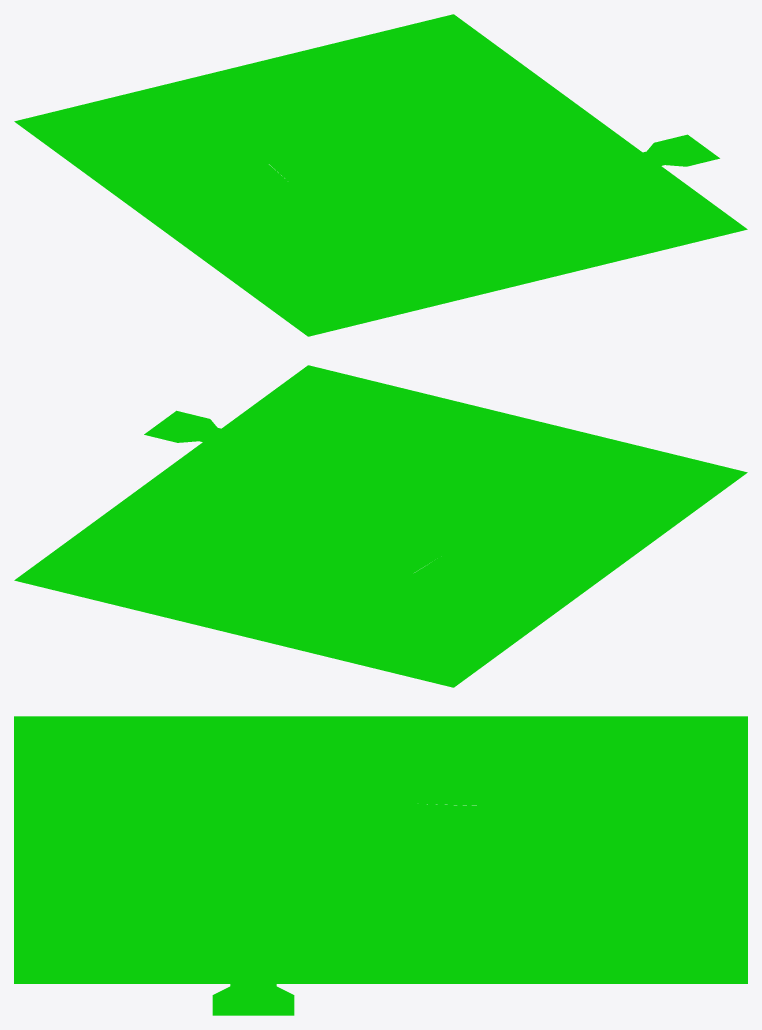
File: CasaAncianaPiso.fbx
3 views of the same model, one above another, from view 1: azimuth 30°, elevation 25°; view 2: azimuth 150°, elevation 25°; view 3: azimuth 270°, elevation 25° (orthographic). The views are drawn at different scales.
Parts seen in each view (by area): view 1: AbuelaPiso; view 2: AbuelaPiso; view 3: AbuelaPiso.
Part boxes in pixels (left/top/right/bottom): AbuelaPiso: left=14, top=14, right=747, bottom=336; AbuelaPiso: left=14, top=365, right=747, bottom=687; AbuelaPiso: left=14, top=716, right=747, bottom=1015.
Size of the model in its own units: 19.16 by 1.91e-08 by 19.85.
